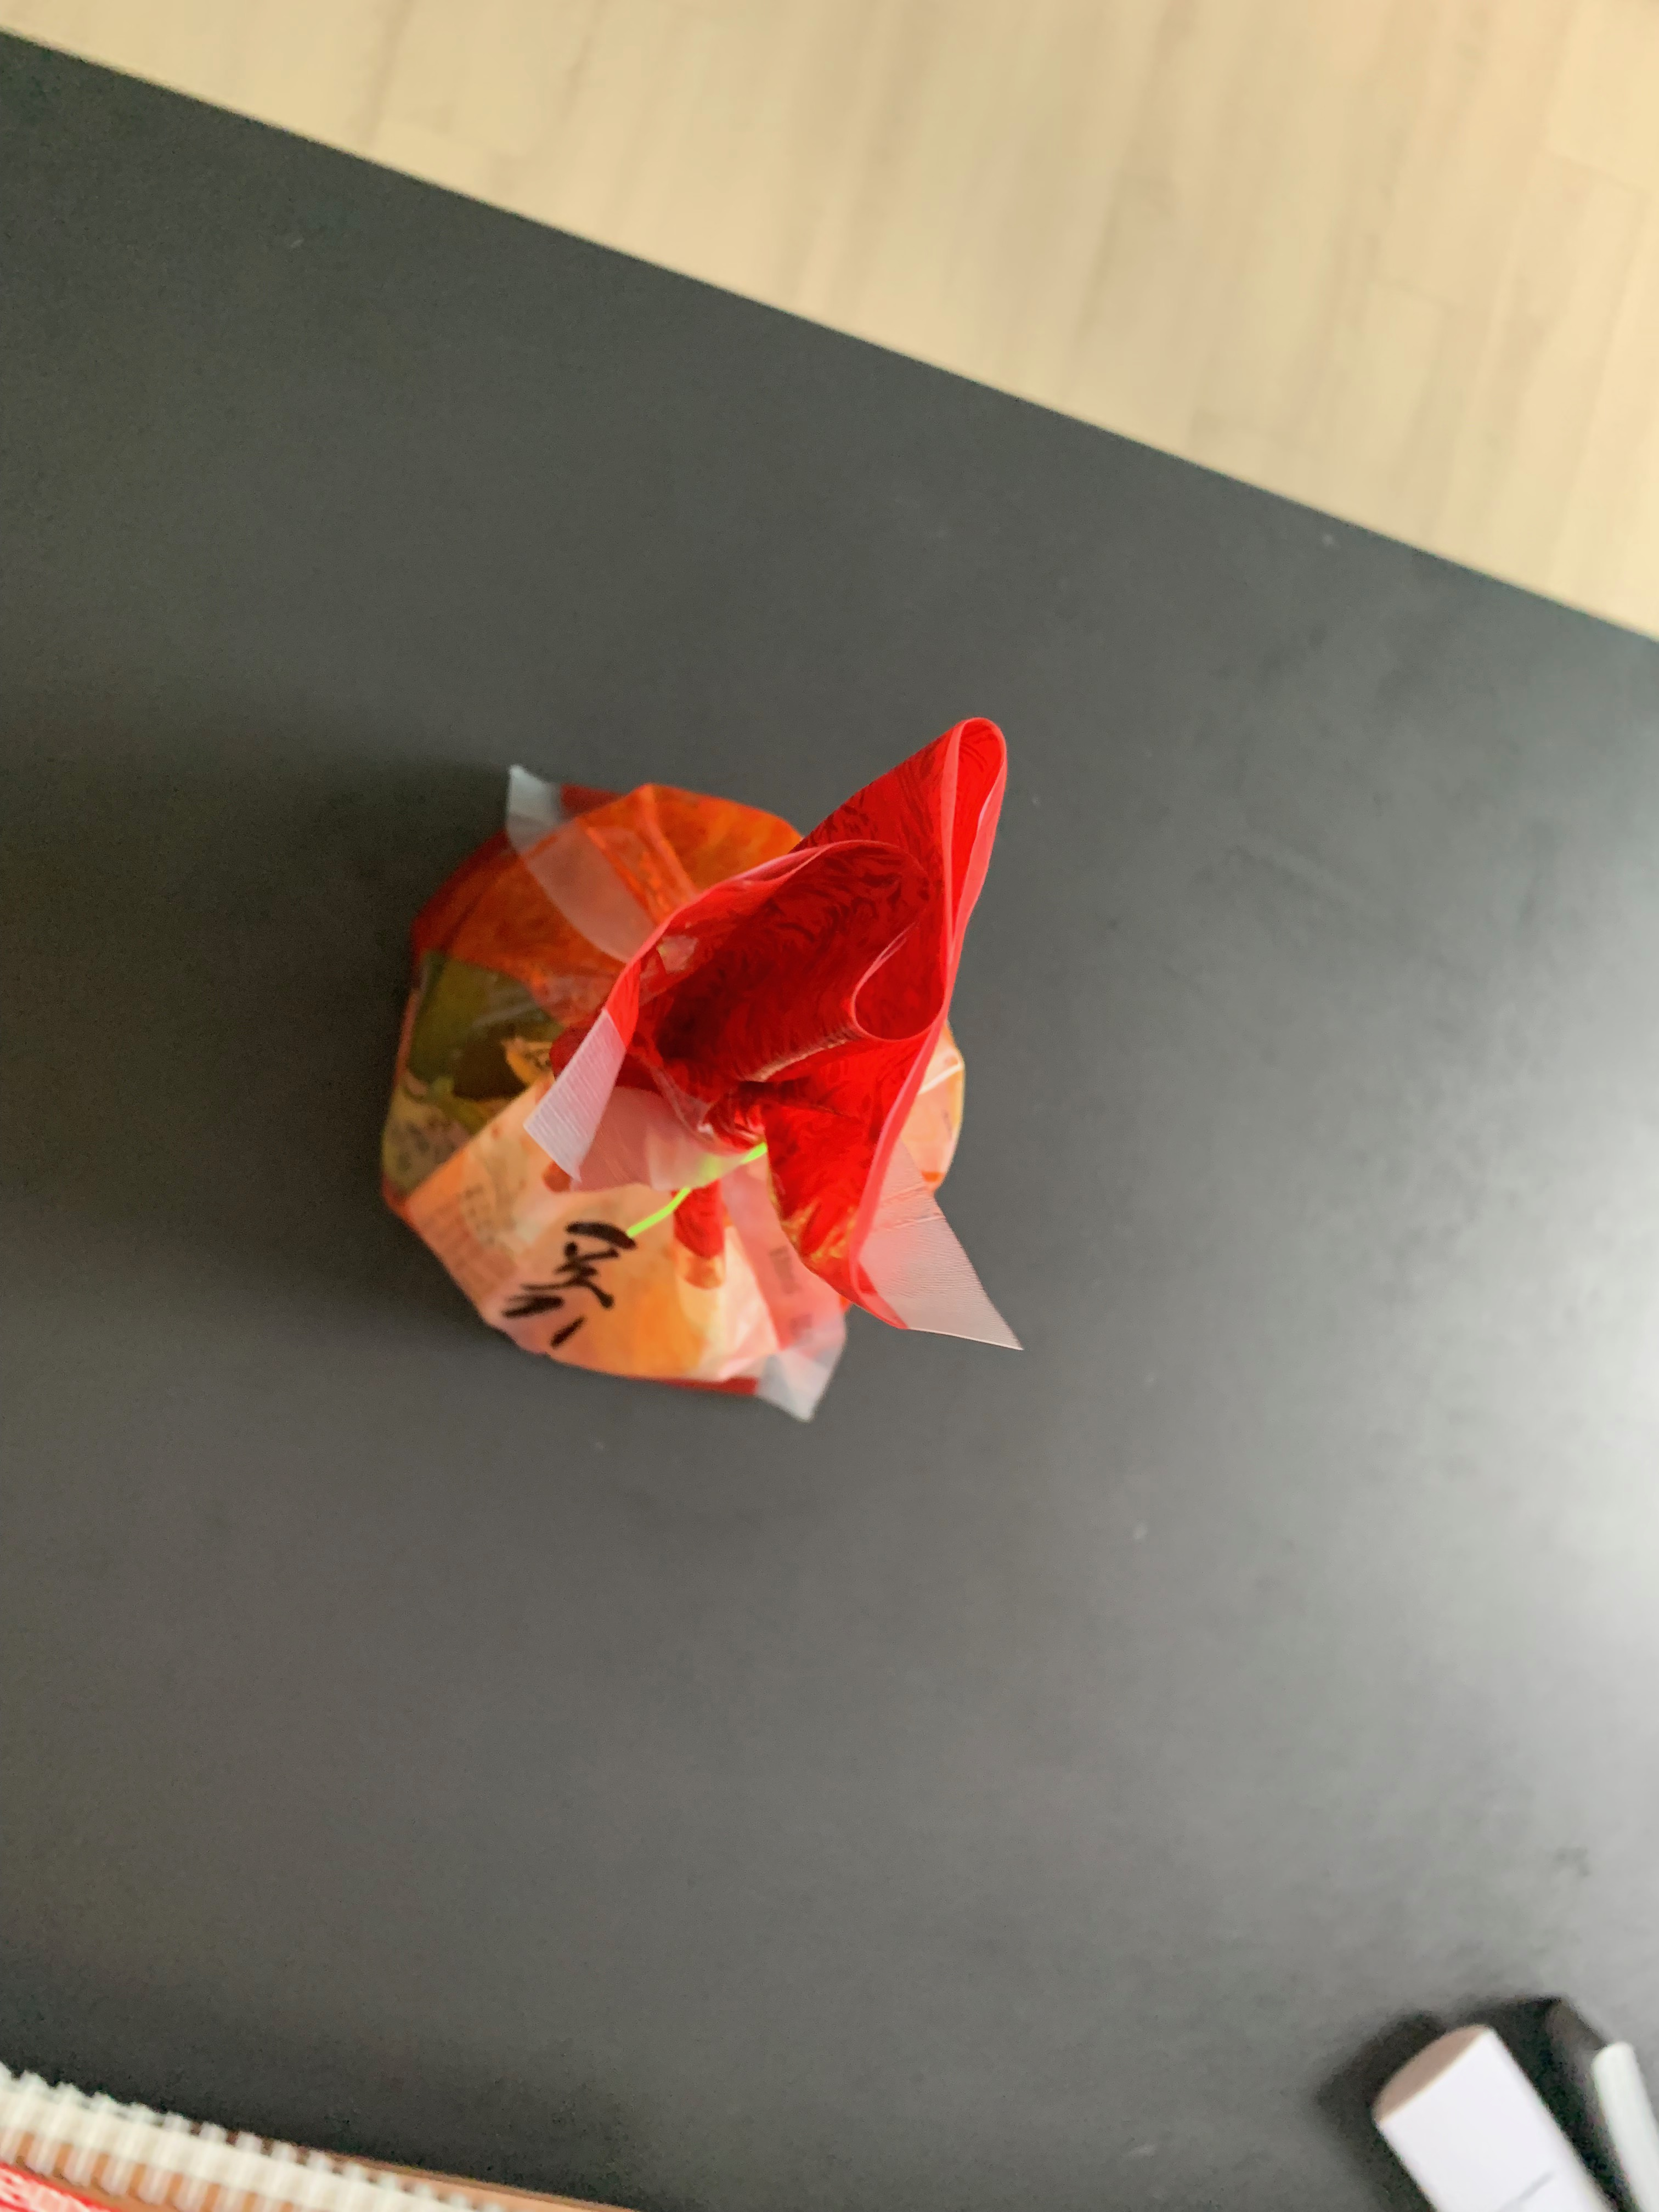kimchi: (389, 719, 1012, 1392)
